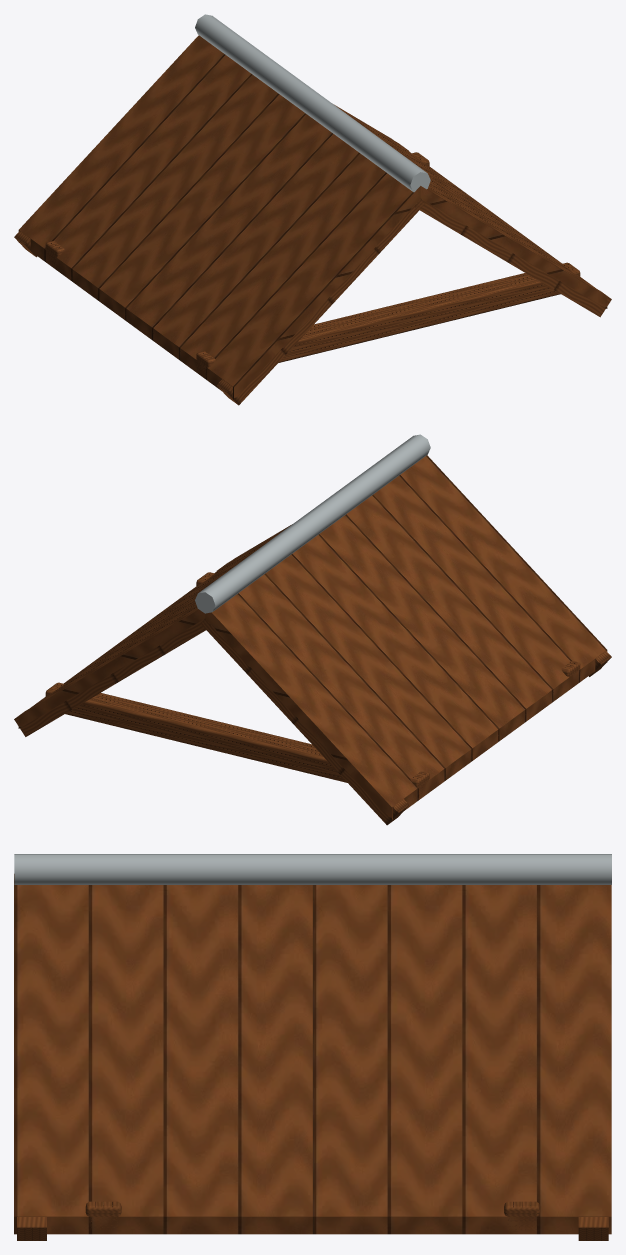
The model's file is roadside-survival-stops-rest-stop-roof-c18db646__23521.glb.
3 renders of one model, top to bottom at view 1: azimuth 30°, elevation 25°; view 2: azimuth 150°, elevation 25°; view 3: azimuth 270°, elevation 25°, orthographic. The views are drawn at different scales.
Visible parts, largest first — view 1: rest-stop-roof; view 2: rest-stop-roof; view 3: rest-stop-roof.
Boxes of the visible parts, left/top/right/bottom form: rest-stop-roof: left=14, top=14, right=611, bottom=405; rest-stop-roof: left=14, top=434, right=611, bottom=825; rest-stop-roof: left=14, top=854, right=611, bottom=1240.
Bounding box in the file's own units: 2.06 × 0.974 × 2.
2 materials, 1 textured.
